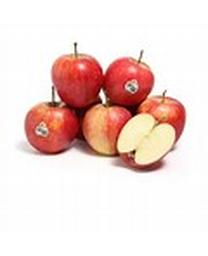apple: (24, 87, 82, 155), (50, 43, 103, 109), (116, 113, 175, 170), (82, 99, 133, 157), (104, 50, 154, 108), (139, 90, 185, 144)
